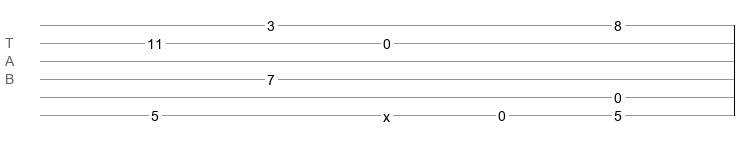0: (383, 36, 391, 46), (498, 108, 506, 118), (614, 90, 622, 100)
11: (147, 36, 163, 46)
3: (267, 18, 275, 28)
5: (151, 108, 159, 118), (614, 108, 622, 118)
7: (267, 72, 275, 82)
8: (614, 18, 622, 28)
x: (383, 109, 390, 117)
